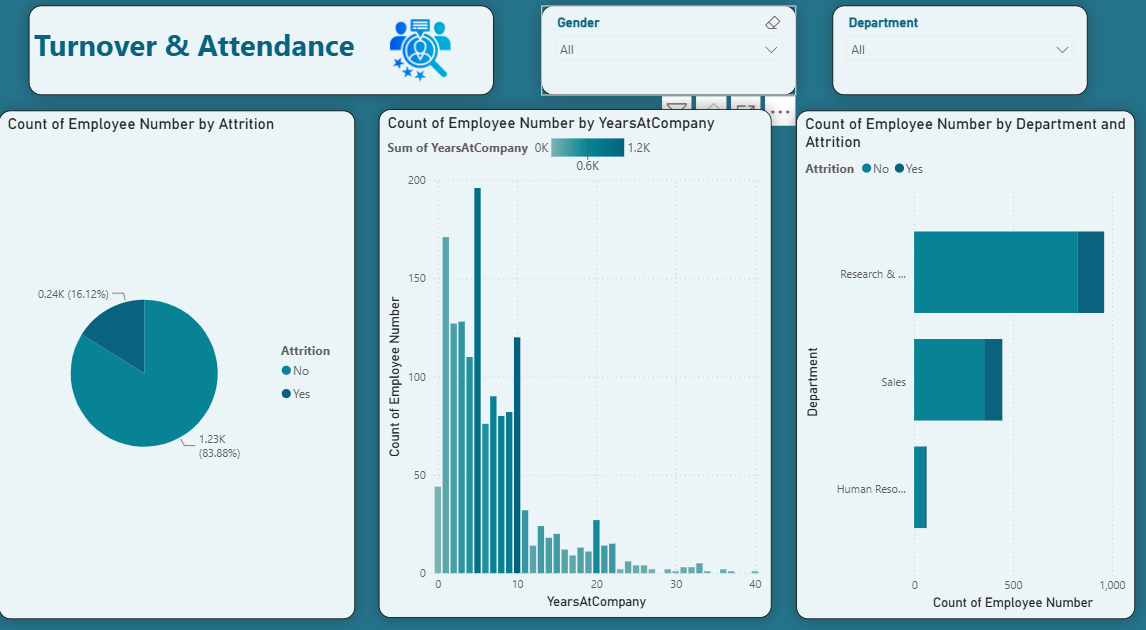

The page's visual inventory and layout, read from the dashboard file:
{"tool":"powerbi","page":{"name":"Turnover & Attendance","canvas":[1280,720],"ordinal":5},"visuals":[{"type":"slicer","fields":{"Values":["HR Analytics Data.Department"]},"box":[924.9,19.2,279.9,98.8],"z":0},{"type":"slicer","fields":{"Values":["HR Analytics Data.Gender"]},"box":[605.1,19.2,279.9,98.8],"z":1000},{"type":"pieChart","fields":{"Category":["HR Analytics Data.Attrition"],"Y":["CountNonNull(HR employee data.Employee Number)"]},"box":[9.6,134.5,391.1,558.5],"z":2000},{"type":"barChart","fields":{"Series":["HR Analytics Data.Attrition"],"Category":["HR Analytics Data.Department"],"Y":["CountNonNull(HR employee data.Employee Number)"]},"box":[885.1,134.5,371.9,558.5],"z":3000},{"type":"clusteredColumnChart","fields":{"Category":["HR Analytics Data.YearsAtCompany"],"Y":["CountNonNull(HR employee data.Employee Number)"]},"box":[426.8,133.1,430.9,558.5],"z":4000},{"type":"textbox","box":[42.5,19.2,510.5,98.8],"z":5000},{"type":"image","box":[359.5,34.3,225,68.6],"z":6000}]}

Visuals, with their boxes in screenshot pixels (x1, y1, x2, y2), scaled from the page's 1280x720 canvas onto the 1146x630 screenshot:
slicer - HR Analytics Data.Department: 828 17 1079 103
slicer - HR Analytics Data.Gender: 542 17 792 103
pieChart - HR Analytics Data.Attrition x CountNonNull(HR employee data.Employee Number): 9 118 359 606
barChart - HR Analytics Data.Attrition x HR Analytics Data.Department: 792 118 1125 606
clusteredColumnChart - HR Analytics Data.YearsAtCompany x CountNonNull(HR employee data.Employee Number): 382 116 768 605
textbox: 38 17 495 103
image: 322 30 523 90
